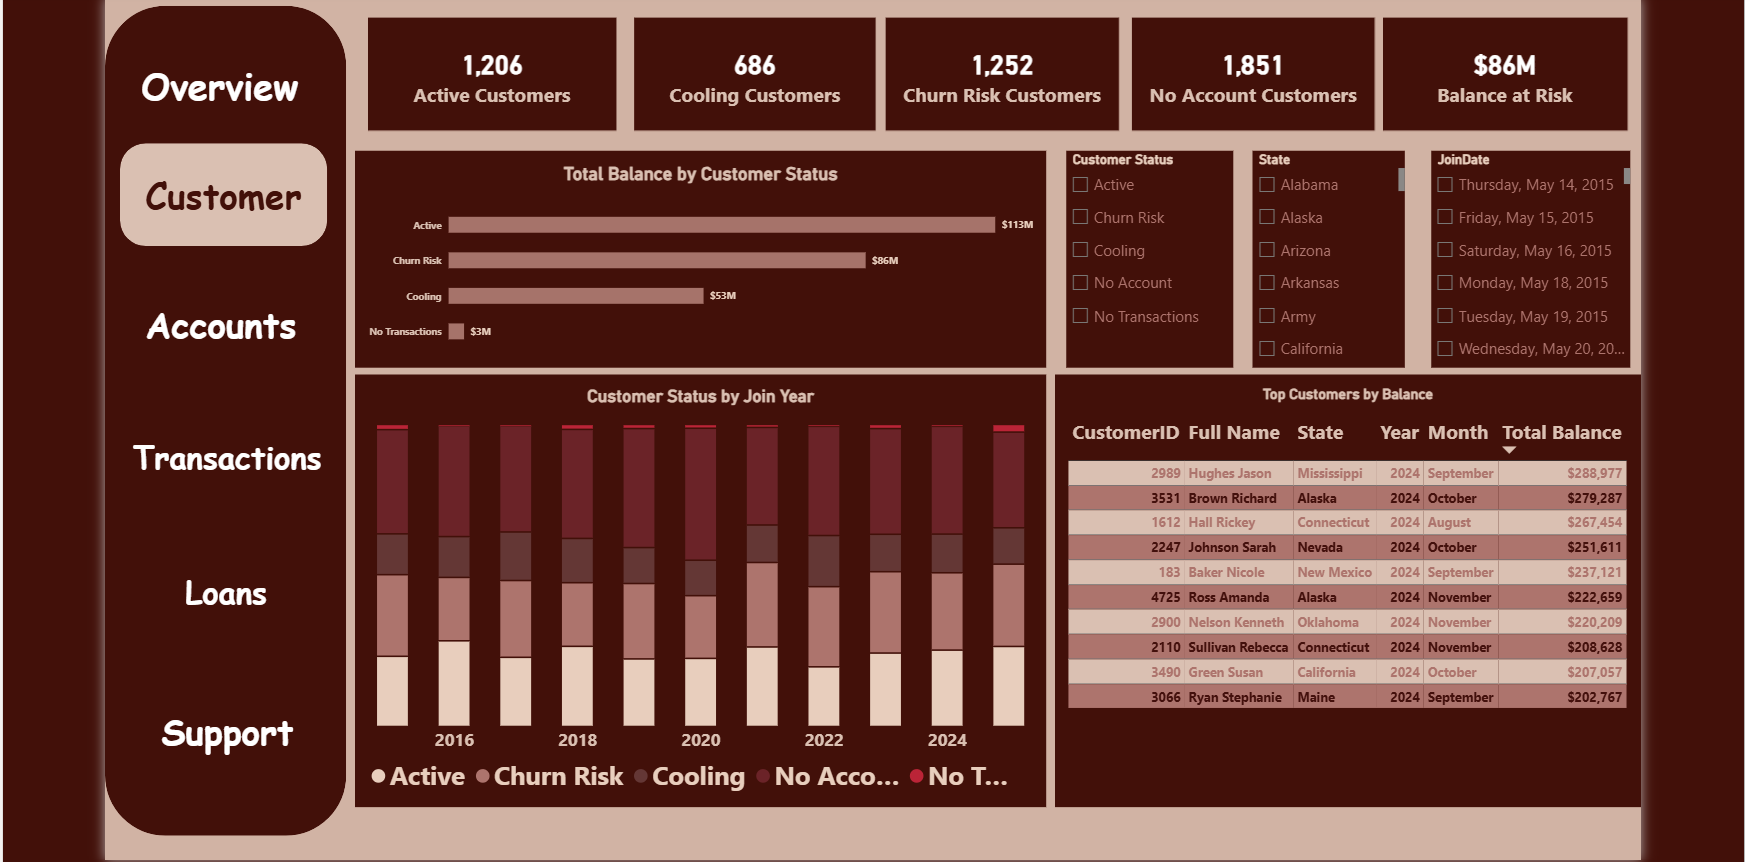

The dashboard page shown, as its layout file describes it:
{"tool":"powerbi","page":{"name":"Customer","canvas":[1920,1080],"ordinal":2},"visuals":[{"type":"advanceCardE03760C5AB684758B56AA29F9E6C257B","fields":{"mainMeasure":["Customer_Measures.Active Customers"]},"box":[312.9,11.4,342.9,171.4],"z":0},{"type":"advanceCardE03760C5AB684758B56AA29F9E6C257B","fields":{"mainMeasure":["Customer_Measures.Cooling Customers"]},"box":[645.7,11.4,334.3,171.4],"z":1000},{"type":"advanceCardE03760C5AB684758B56AA29F9E6C257B","fields":{"mainMeasure":["Customer_Measures.Churn Risk Customers"]},"box":[960,11.4,324.3,171.4],"z":2000},{"type":"advanceCardE03760C5AB684758B56AA29F9E6C257B","fields":{"mainMeasure":["Customer_Measures.No Activity Customers"]},"box":[1267.1,11.4,335.7,171.4],"z":3000},{"type":"advanceCardE03760C5AB684758B56AA29F9E6C257B","fields":{"mainMeasure":["Customer_Measures.Balance at Risk"]},"box":[1581.4,11.4,338.6,171.4],"z":4000},{"type":"hundredPercentStackedColumnChart","title":"Customer Status by Join Year","fields":{"Category":["Calendar.Year"],"Series":["customers.Customer Status"],"Y":["Exec_Measures.Total Customers"]},"box":[312.5,471.9,864.1,540.6],"z":5000},{"type":"clusteredBarChart","title":"Total Balance by Customer Status","fields":{"Category":["customers.Customer Status"],"Y":["Exec_Measures.Total Balance"]},"box":[312.9,192.9,864.3,271.4],"z":6000},{"type":"tableEx","title":"Top Customers by Balance","fields":{"Values":["customers.CustomerID","customers.Full Name","customers.State","customers.Last Txn Date.Variation.Date Hierarchy.Year","customers.Last Txn Date.Variation.Date Hierarchy.Month","Exec_Measures.Total Balance"]},"box":[1187.5,471.9,732.8,540.6],"z":7000},{"type":"shape","box":[0,10.9,301.6,1037.5],"z":8000},{"type":"shape","box":[14.5,53.6,258.9,116.1],"z":9000},{"type":"shape","box":[15.9,343.5,258.9,128.6],"z":10000},{"type":"shape","box":[22.9,510,258.9,128.6],"z":11000},{"type":"shape","box":[21.9,678.1,258.9,128.6],"z":12000},{"type":"shape","box":[18.8,182.6,258.9,128.6],"z":13000},{"type":"shape","box":[23.4,853.1,258.9,128.6],"z":14000},{"type":"slicer","fields":{"Values":["customers.Customer Status"]},"box":[1201.4,192.9,208.6,271.4],"z":15000},{"type":"slicer","fields":{"Values":["customers.State"]},"box":[1434.3,192.9,190,271.4],"z":16000},{"type":"slicer","fields":{"Values":["customers.JoinDate"]},"box":[1657.1,192.9,248.6,271.4],"z":17000}]}

Visuals, with their boxes on the page's 1920x1080 design canvas (x1, y1, x2, y2). These are canvas units, not pixel positions in the 1750x862 screenshot, which may show the page scaled, cropped or inside an application window:
advanceCardE03760C5AB684758B56AA29F9E6C257B - Customer_Measures.Active Customers: (313, 11, 656, 183)
advanceCardE03760C5AB684758B56AA29F9E6C257B - Customer_Measures.Cooling Customers: (646, 11, 980, 183)
advanceCardE03760C5AB684758B56AA29F9E6C257B - Customer_Measures.Churn Risk Customers: (960, 11, 1284, 183)
advanceCardE03760C5AB684758B56AA29F9E6C257B - Customer_Measures.No Activity Customers: (1267, 11, 1603, 183)
advanceCardE03760C5AB684758B56AA29F9E6C257B - Customer_Measures.Balance at Risk: (1581, 11, 1920, 183)
"Customer Status by Join Year" hundredPercentStackedColumnChart: (312, 472, 1177, 1012)
"Total Balance by Customer Status" clusteredBarChart: (313, 193, 1177, 464)
"Top Customers by Balance" tableEx: (1188, 472, 1920, 1012)
shape: (0, 11, 302, 1048)
shape: (14, 54, 273, 170)
shape: (16, 344, 275, 472)
shape: (23, 510, 282, 639)
shape: (22, 678, 281, 807)
shape: (19, 183, 278, 311)
shape: (23, 853, 282, 982)
slicer - customers.Customer Status: (1201, 193, 1410, 464)
slicer - customers.State: (1434, 193, 1624, 464)
slicer - customers.JoinDate: (1657, 193, 1906, 464)
